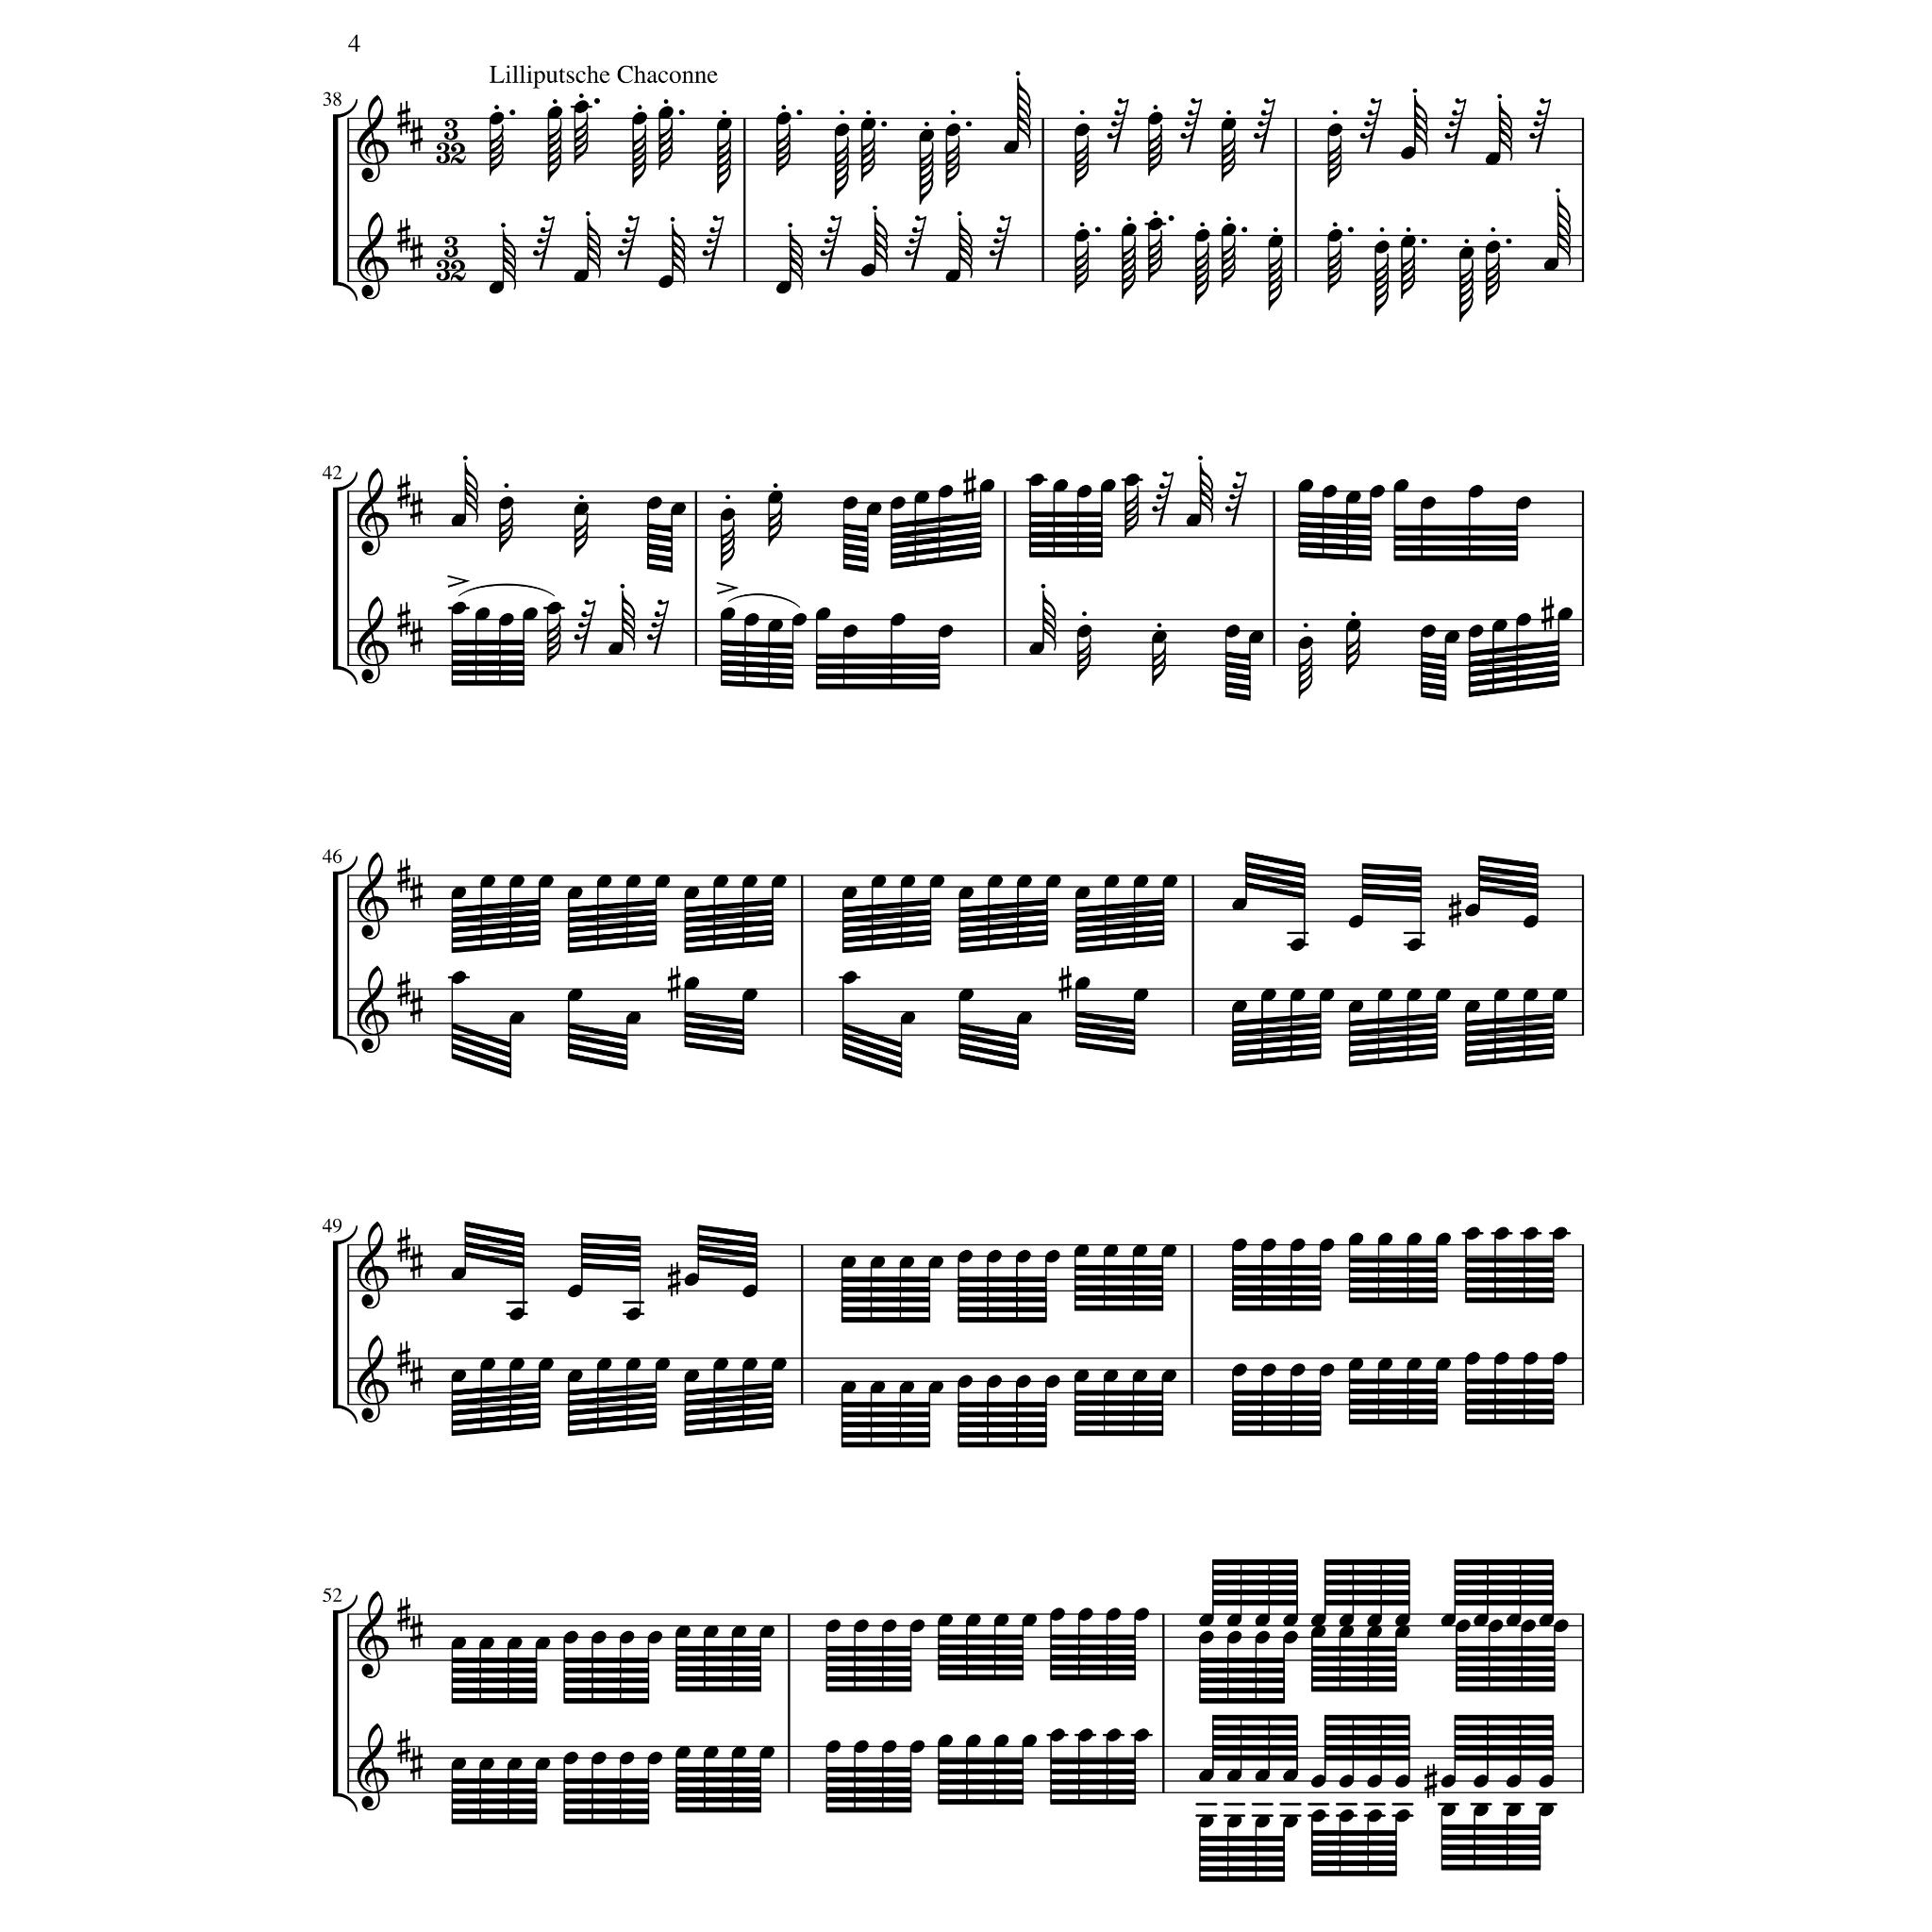flag128thDown: (833, 136, 849, 200), (918, 142, 934, 205), (1194, 242, 1210, 304), (1122, 237, 1138, 299), (632, 126, 648, 188), (1269, 248, 1283, 311), (1460, 258, 1474, 322), (1375, 253, 1389, 317), (548, 119, 563, 182), (717, 131, 731, 195)
flag128thUp: (1557, 196, 1571, 267), (1017, 80, 1030, 150)
flag64thDown: (1074, 241, 1090, 294), (1074, 136, 1090, 189), (1327, 241, 1343, 294), (1327, 136, 1343, 189), (945, 136, 961, 189), (1148, 124, 1162, 177), (1221, 235, 1235, 288), (1221, 129, 1235, 182), (1486, 253, 1500, 306), (1401, 246, 1415, 299), (573, 111, 587, 165), (488, 124, 502, 177), (862, 129, 876, 182), (777, 124, 791, 177), (1299, 646, 1313, 699), (1125, 485, 1139, 538), (720, 518, 734, 571), (1148, 230, 1162, 281), (658, 119, 672, 170), (547, 614, 561, 665)
flag64thUp: (587, 218, 602, 280), (959, 218, 973, 280), (1499, 101, 1513, 161), (672, 225, 686, 285), (502, 230, 517, 290), (874, 214, 888, 274), (789, 230, 803, 290), (1200, 464, 1214, 524), (1042, 591, 1056, 651), (621, 591, 635, 651), (1415, 96, 1428, 157), (465, 464, 478, 524)
gClef: (357, 594, 389, 685), (357, 467, 389, 557), (357, 964, 389, 1054), (357, 851, 389, 941), (357, 1334, 389, 1424), (357, 212, 389, 301), (357, 94, 389, 182), (357, 1221, 389, 1309), (357, 1591, 389, 1679), (357, 1723, 389, 1812)
noteheadBlack: (1028, 642, 1046, 656), (545, 602, 563, 616), (957, 989, 975, 1003), (1014, 1375, 1031, 1389), (1014, 1249, 1031, 1263), (985, 1375, 1003, 1389), (985, 1249, 1003, 1263), (1221, 117, 1237, 131), (1221, 223, 1237, 237), (1003, 140, 1019, 154), (1148, 218, 1164, 232), (1148, 111, 1164, 126), (1122, 223, 1138, 237), (1486, 152, 1502, 166), (1460, 246, 1476, 260), (1401, 147, 1417, 161), (632, 111, 648, 126), (573, 269, 589, 283), (717, 117, 732, 131), (658, 106, 674, 120), (547, 106, 563, 120), (488, 111, 504, 126), (945, 269, 961, 283), (860, 264, 876, 278), (860, 117, 876, 131), (918, 129, 934, 143), (775, 111, 791, 126), (1249, 630, 1265, 644), (1152, 630, 1168, 644), (1076, 485, 1092, 499), (1557, 607, 1573, 621), (1516, 495, 1532, 510), (1369, 485, 1385, 499), (1322, 485, 1338, 499), (1467, 485, 1483, 499), (1444, 630, 1460, 644), (1421, 495, 1437, 510), (646, 495, 662, 510), (609, 642, 625, 656), (573, 502, 589, 517), (720, 607, 736, 621), (720, 508, 736, 522), (671, 502, 686, 517), (451, 602, 467, 616), (522, 607, 538, 621), (499, 495, 515, 510), (474, 607, 490, 621), (890, 495, 906, 510), (867, 502, 883, 517), (842, 495, 858, 510), (938, 485, 954, 499), (816, 607, 832, 621), (1231, 1000, 1247, 1014), (1318, 989, 1334, 1003), (1290, 989, 1306, 1003), (1162, 874, 1178, 888), (1260, 989, 1276, 1003), (1016, 874, 1031, 888), (1076, 977, 1092, 991), (1046, 874, 1062, 888), (1132, 989, 1148, 1003), (1132, 874, 1148, 888), (1104, 874, 1120, 888), (1552, 989, 1568, 1003), (1523, 989, 1539, 1003), (1523, 915, 1539, 929), (1493, 989, 1509, 1003), (1407, 989, 1422, 1003), (1376, 989, 1392, 1003), (1348, 1000, 1364, 1014), (1348, 915, 1364, 929), (1465, 1000, 1481, 1014), (1465, 904, 1481, 918), (1435, 989, 1451, 1003), (625, 874, 640, 888), (596, 874, 612, 888), (566, 989, 582, 1003), (538, 874, 554, 888), (683, 977, 699, 991), (655, 874, 671, 888), (510, 874, 525, 888), (479, 874, 495, 888), (899, 874, 915, 888), (870, 874, 886, 888), (987, 874, 1003, 888), (929, 874, 945, 888), (770, 874, 786, 888), (713, 874, 729, 888), (1260, 1238, 1276, 1253), (1044, 1249, 1060, 1263), (1318, 1238, 1334, 1253), (1290, 1238, 1306, 1253), (1102, 1244, 1118, 1258), (1074, 1244, 1090, 1258), (1044, 1375, 1060, 1389), (1231, 1238, 1247, 1253), (1161, 1244, 1177, 1258), (1132, 1244, 1148, 1258), (1552, 1352, 1568, 1366), (1523, 1352, 1539, 1366), (1407, 1357, 1422, 1371), (1407, 1233, 1422, 1247), (1376, 1357, 1392, 1371), (1376, 1233, 1392, 1247), (1493, 1352, 1509, 1366), (1465, 1352, 1481, 1366), (1435, 1357, 1451, 1371), (1435, 1233, 1451, 1247), (655, 1357, 671, 1371), (625, 1357, 640, 1371), (596, 1357, 612, 1371), (741, 1357, 757, 1371), (741, 1284, 757, 1299), (713, 1357, 729, 1371), (566, 1284, 582, 1299), (683, 1274, 699, 1288), (451, 1267, 467, 1281), (538, 1357, 554, 1371), (510, 1357, 525, 1371), (479, 1357, 495, 1371), (957, 1375, 973, 1389), (957, 1249, 973, 1263), (770, 1357, 786, 1371), (1553, 1619, 1569, 1633), (1537, 1803, 1553, 1817), (1520, 1619, 1536, 1633), (1506, 1803, 1522, 1817), (1454, 1619, 1470, 1633), (1440, 1803, 1456, 1817), (1488, 1619, 1504, 1633), (1474, 1803, 1490, 1817), (648, 1752, 663, 1766), (619, 1752, 635, 1766), (824, 1619, 840, 1633), (451, 1637, 467, 1651), (451, 1757, 467, 1771), (479, 1637, 495, 1651), (479, 1757, 495, 1771), (563, 1752, 579, 1766), (591, 1752, 607, 1766), (506, 1637, 522, 1651), (506, 1757, 522, 1771), (534, 1637, 550, 1651), (534, 1757, 550, 1771), (1049, 1608, 1065, 1622), (1134, 1608, 1150, 1622), (1077, 1608, 1093, 1622), (1106, 1608, 1122, 1622), (881, 1619, 897, 1633), (909, 1619, 925, 1633), (853, 1619, 869, 1633), (1028, 474, 1046, 487), (1099, 479, 1116, 492), (957, 886, 975, 899), (743, 874, 757, 888), (743, 989, 757, 1003), (1348, 1357, 1362, 1371), (1348, 1233, 1362, 1247), (1194, 230, 1210, 242), (1267, 235, 1283, 248), (1074, 230, 1090, 242), (1074, 124, 1090, 136), (1486, 241, 1502, 253), (1543, 258, 1559, 271), (1327, 230, 1343, 242), (1327, 124, 1343, 136), (1401, 235, 1417, 248), (1375, 241, 1391, 253), (573, 101, 589, 113), (658, 276, 674, 288), (488, 281, 504, 294), (833, 124, 849, 136), (945, 124, 961, 136), (775, 281, 791, 294), (1224, 625, 1240, 637), (1185, 515, 1201, 527), (1297, 637, 1313, 649), (1297, 479, 1313, 492), (1053, 479, 1069, 492), (1123, 474, 1139, 487), (1076, 625, 1092, 637), (1516, 614, 1532, 626), (1491, 619, 1507, 632), (1345, 619, 1361, 632), (1345, 492, 1361, 504), (1467, 625, 1483, 637), (1421, 625, 1437, 637), (1392, 479, 1408, 492), (451, 515, 467, 527), (499, 614, 515, 626), (890, 614, 906, 626), (842, 625, 858, 637), (978, 479, 994, 492), (938, 625, 954, 637), (913, 492, 929, 504), (768, 619, 784, 632), (768, 492, 784, 504), (743, 614, 759, 626), (791, 614, 807, 626), (1231, 899, 1247, 911), (1290, 939, 1306, 952), (1016, 1012, 1031, 1024), (1076, 886, 1092, 899), (1407, 939, 1422, 952), (625, 1012, 640, 1024), (566, 886, 582, 899), (683, 886, 699, 899), (451, 971, 467, 984), (451, 886, 467, 899), (510, 1012, 525, 1024), (899, 1012, 915, 1024), (840, 971, 856, 984), (840, 886, 856, 899), (1260, 1364, 1276, 1376), (1318, 1364, 1334, 1376), (1290, 1364, 1306, 1376), (1102, 1369, 1118, 1382), (1074, 1369, 1090, 1382), (1231, 1364, 1247, 1376), (1161, 1369, 1177, 1382), (1132, 1369, 1148, 1382), (1552, 1228, 1568, 1240), (1523, 1228, 1539, 1240), (1493, 1228, 1509, 1240), (1465, 1228, 1481, 1240), (625, 1307, 640, 1320), (566, 1369, 582, 1382), (683, 1369, 699, 1382), (451, 1369, 467, 1382), (510, 1307, 525, 1320), (927, 1382, 943, 1394), (927, 1256, 943, 1269), (899, 1382, 915, 1394), (899, 1256, 915, 1269), (840, 1382, 856, 1394), (840, 1256, 856, 1269), (869, 1382, 885, 1394), (869, 1256, 885, 1269), (1309, 1810, 1325, 1822), (1309, 1775, 1325, 1787), (1309, 1614, 1325, 1626), (1309, 1626, 1325, 1638), (1366, 1775, 1382, 1787), (1366, 1614, 1382, 1626), (1366, 1626, 1382, 1638), (1366, 1810, 1382, 1822), (1338, 1614, 1353, 1626), (1338, 1626, 1353, 1638), (1338, 1775, 1353, 1787), (1338, 1810, 1353, 1822), (1226, 1769, 1242, 1782), (1226, 1614, 1242, 1626), (1226, 1631, 1242, 1644), (1226, 1815, 1242, 1828), (1283, 1614, 1299, 1626), (1283, 1631, 1299, 1644), (1283, 1769, 1299, 1782), (1283, 1815, 1299, 1828), (1254, 1614, 1270, 1626), (1254, 1631, 1270, 1644), (1254, 1769, 1270, 1782), (1254, 1815, 1270, 1828), (1537, 1614, 1553, 1626), (1537, 1775, 1553, 1787), (1506, 1614, 1522, 1626), (1506, 1775, 1522, 1787), (1440, 1614, 1456, 1626), (1440, 1775, 1456, 1787), (1394, 1614, 1410, 1626), (1394, 1626, 1410, 1638), (1394, 1775, 1410, 1787), (1394, 1810, 1410, 1822), (1474, 1775, 1490, 1787), (1474, 1614, 1490, 1626), (676, 1626, 692, 1638), (648, 1631, 663, 1644), (676, 1746, 692, 1759), (619, 1631, 635, 1644), (759, 1626, 775, 1638), (759, 1746, 775, 1759), (824, 1741, 840, 1753), (702, 1626, 718, 1638), (702, 1746, 718, 1759), (731, 1626, 747, 1638), (731, 1746, 747, 1759), (563, 1631, 579, 1644), (591, 1631, 607, 1644), (1021, 1734, 1037, 1746), (1049, 1729, 1065, 1741), (993, 1734, 1008, 1746), (1021, 1614, 1037, 1626), (1134, 1729, 1150, 1741), (1198, 1614, 1214, 1626), (1198, 1631, 1214, 1644), (1198, 1769, 1214, 1782), (1198, 1815, 1214, 1828), (1077, 1729, 1093, 1741), (993, 1614, 1008, 1626), (1106, 1729, 1122, 1741), (881, 1741, 897, 1753), (853, 1741, 869, 1753), (938, 1614, 954, 1626), (938, 1734, 954, 1746), (964, 1734, 980, 1746), (964, 1614, 980, 1626), (909, 1741, 925, 1753)
